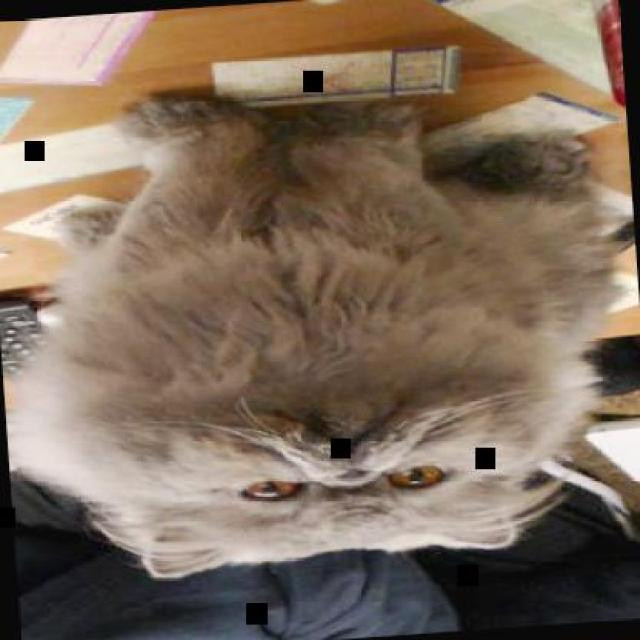cat: (0, 61, 629, 594)
